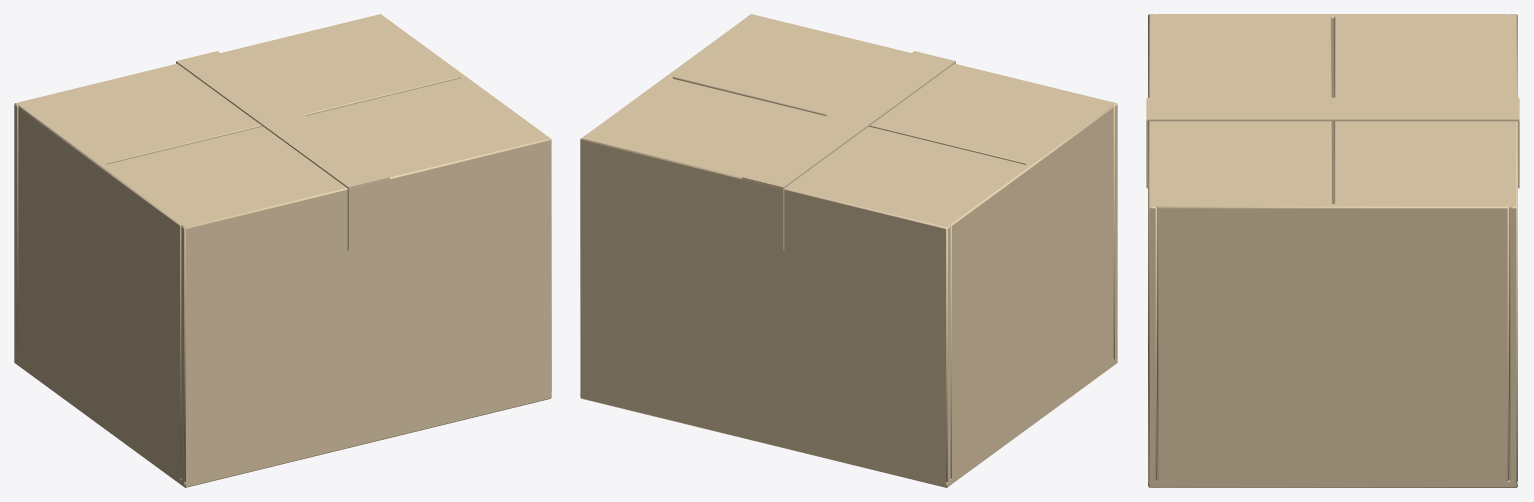
Rendered from cardboard_box_closed.glb.
3 renders of one model, left to right at view 1: azimuth 30°, elevation 25°; view 2: azimuth 150°, elevation 25°; view 3: azimuth 270°, elevation 25°, orthographic. The views are drawn at different scales.
Visible parts, largest first — view 1: cardboard_box_closed; view 2: cardboard_box_closed; view 3: cardboard_box_closed.
Part boxes in pixels (x1,y1,x2,y2): cardboard_box_closed: (14,14,551,487); cardboard_box_closed: (580,14,1117,487); cardboard_box_closed: (1146,14,1519,487).
Bounding box in the file's own units: 0.62 × 0.4224 × 0.5048.
